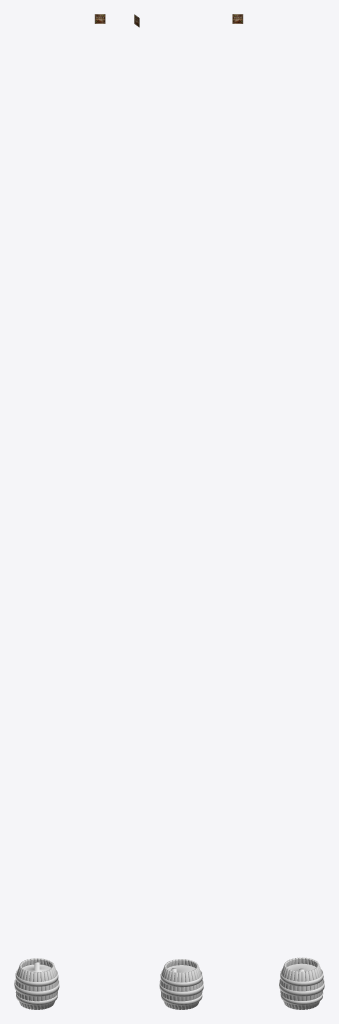
File: barreltest2.fbx
3 views of the same model, side by side, from view 1: azimuth 90°, elevation 25°; view 2: azimuth 210°, elevation 25°; view 3: azimuth 270°, elevation 25° (orthographic). The views are drawn at different scales.
Parts seen in each view (by area): view 1: Cylinder.001, Circle.012, Circle.013; view 2: Cylinder.001, Circle.012, Circle.013, Circle.014; view 3: Cylinder.001, Circle.012, Circle.013.
Boxes of the visible parts, x1=… form: Cylinder.001: x1=15, y1=958, x2=58, y2=1009; Circle.012: x1=14, y1=979, x2=59, y2=996; Circle.013: x1=15, y1=969, x2=58, y2=986; Cylinder.001: x1=160, y1=959, x2=202, y2=1009; Circle.012: x1=159, y1=980, x2=203, y2=996; Circle.013: x1=160, y1=970, x2=202, y2=987; Circle.014: x1=161, y1=993, x2=202, y2=1005; Cylinder.001: x1=280, y1=957, x2=323, y2=1009; Circle.012: x1=279, y1=979, x2=324, y2=996; Circle.013: x1=280, y1=969, x2=323, y2=986.
Size of the model in its own units: 410 by 9857 by 830.
Materials: 4 (1 with a texture image).
